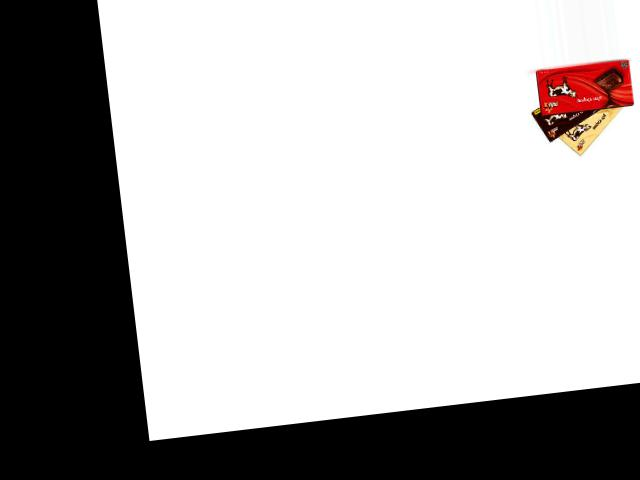chocolate: (544, 97, 636, 160)
